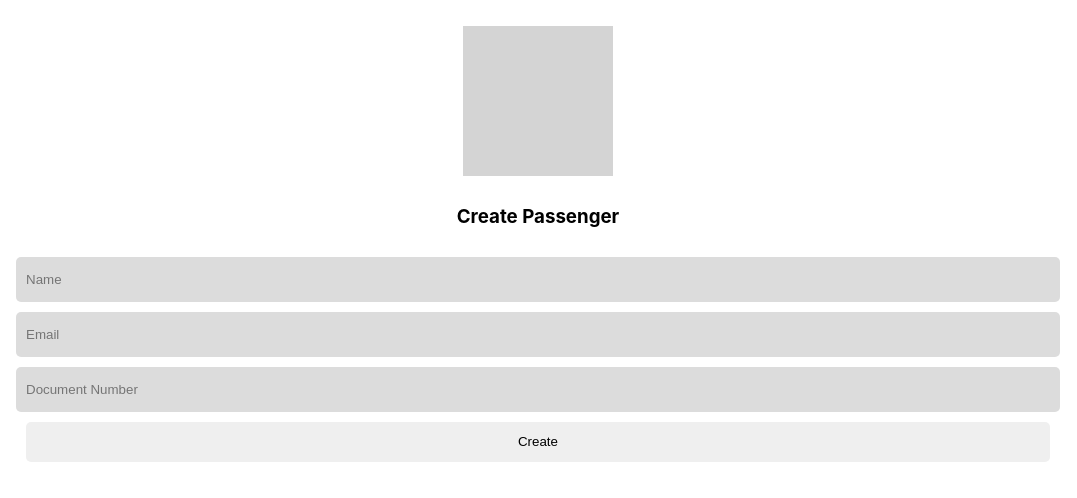
Test: should test not create passenger with invalid name
This screenshot has width=1077, height=498.
Click the button with test id "button-id" at (538, 442), box [26,422,1050,462]
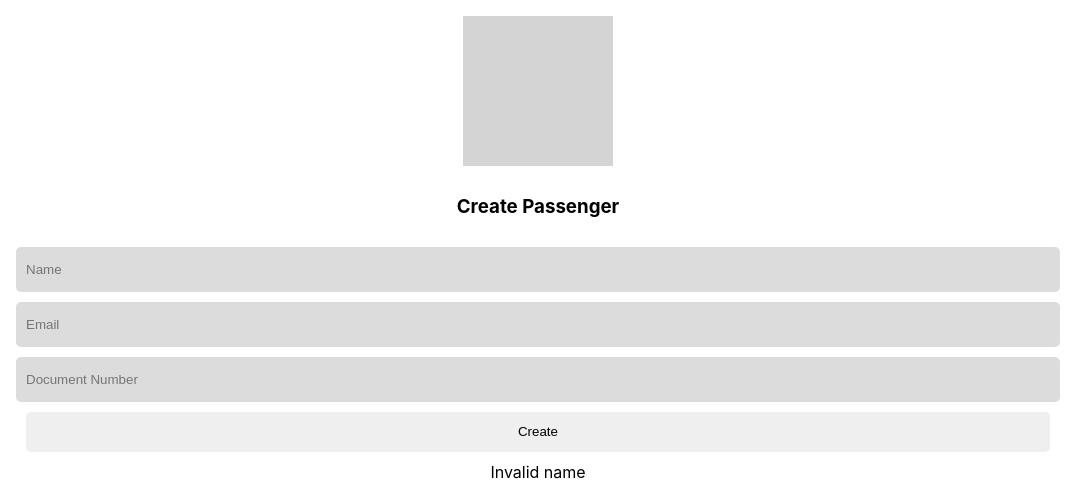
Check: the text with test id "error" reads "Invalid name", box [490,462,586,482]
